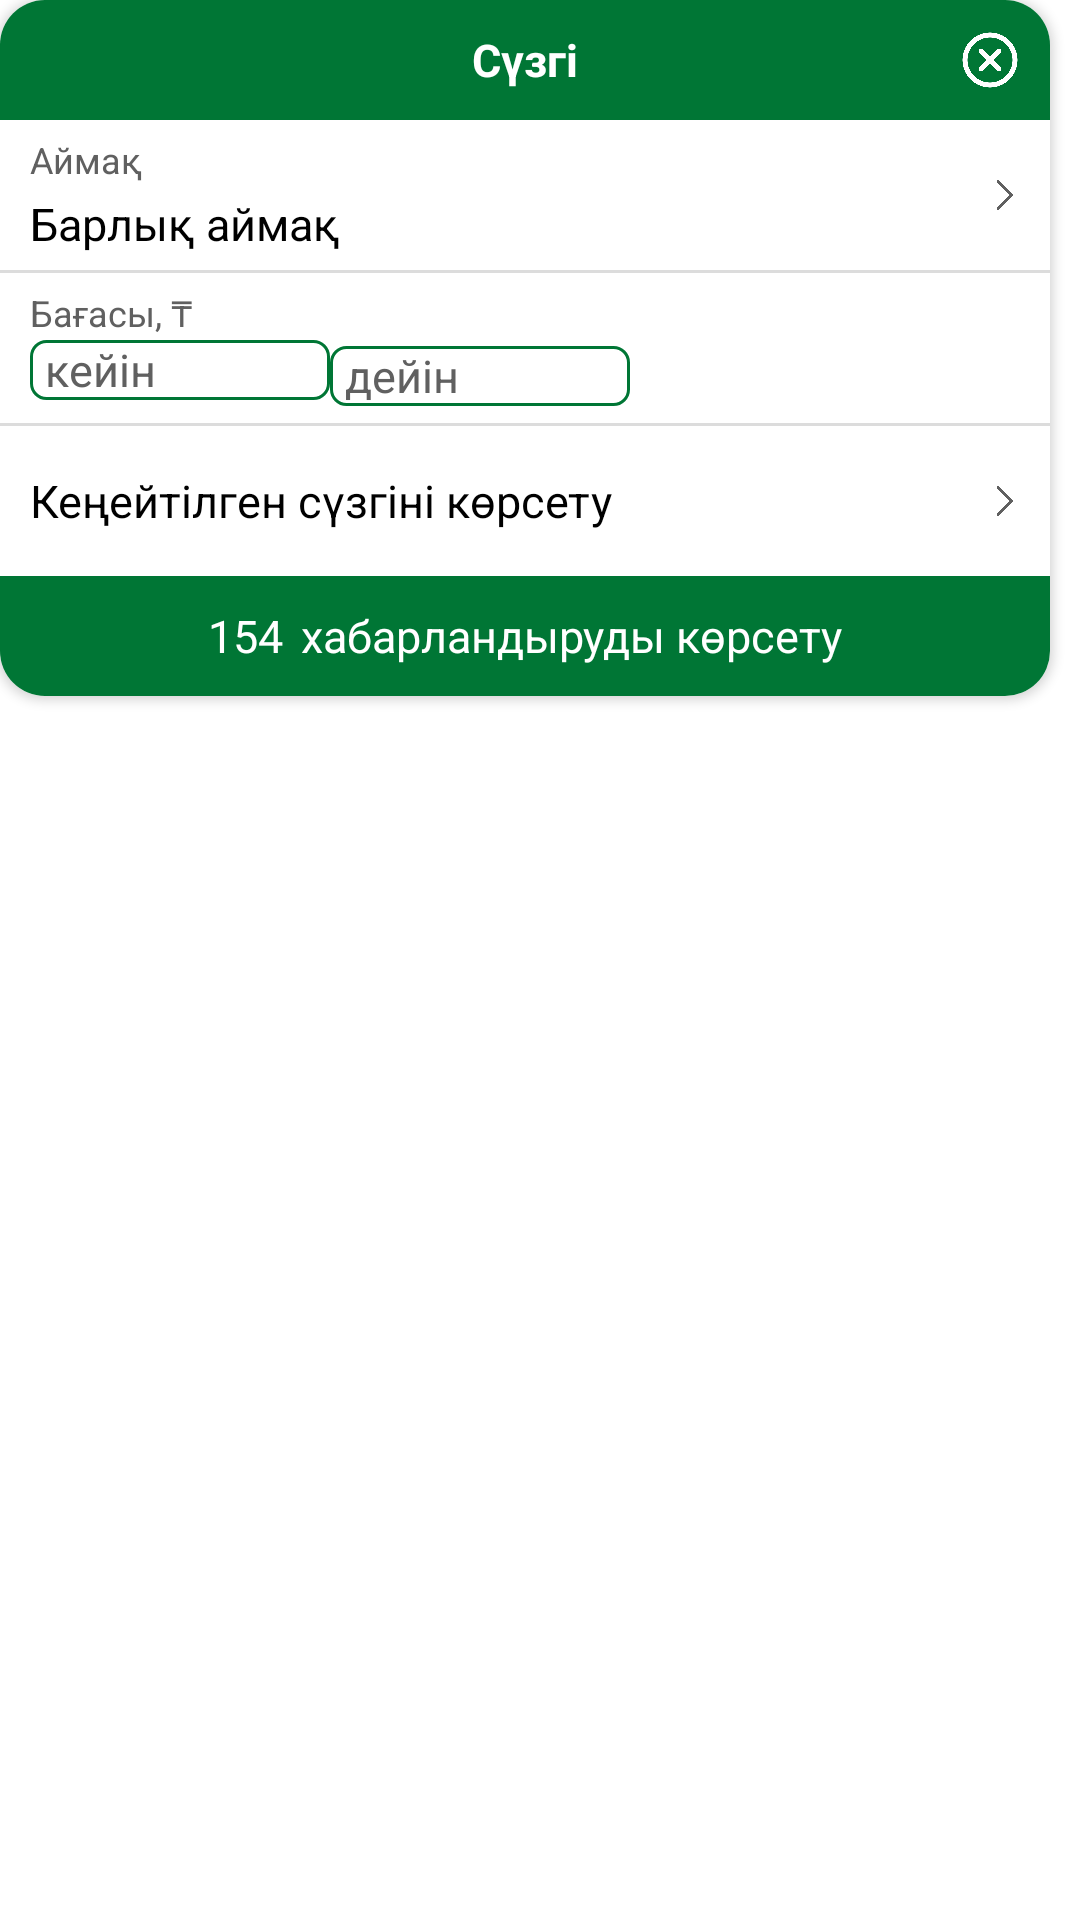

Named icons in this screenshot (1080px×1920px) and their centers, (x,y):
next: (1005,195), (1005,501)
